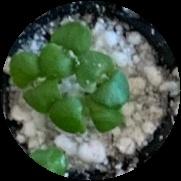Basil: (9, 55, 60, 111), (41, 21, 90, 78), (44, 101, 124, 135), (82, 54, 134, 106)
